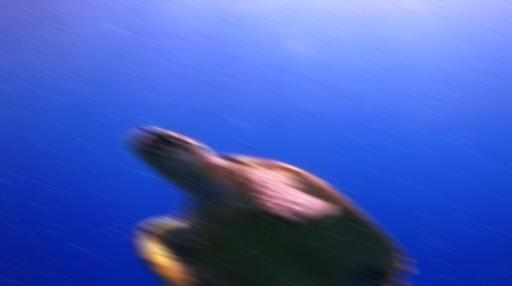Fish: (129, 128, 407, 285)
